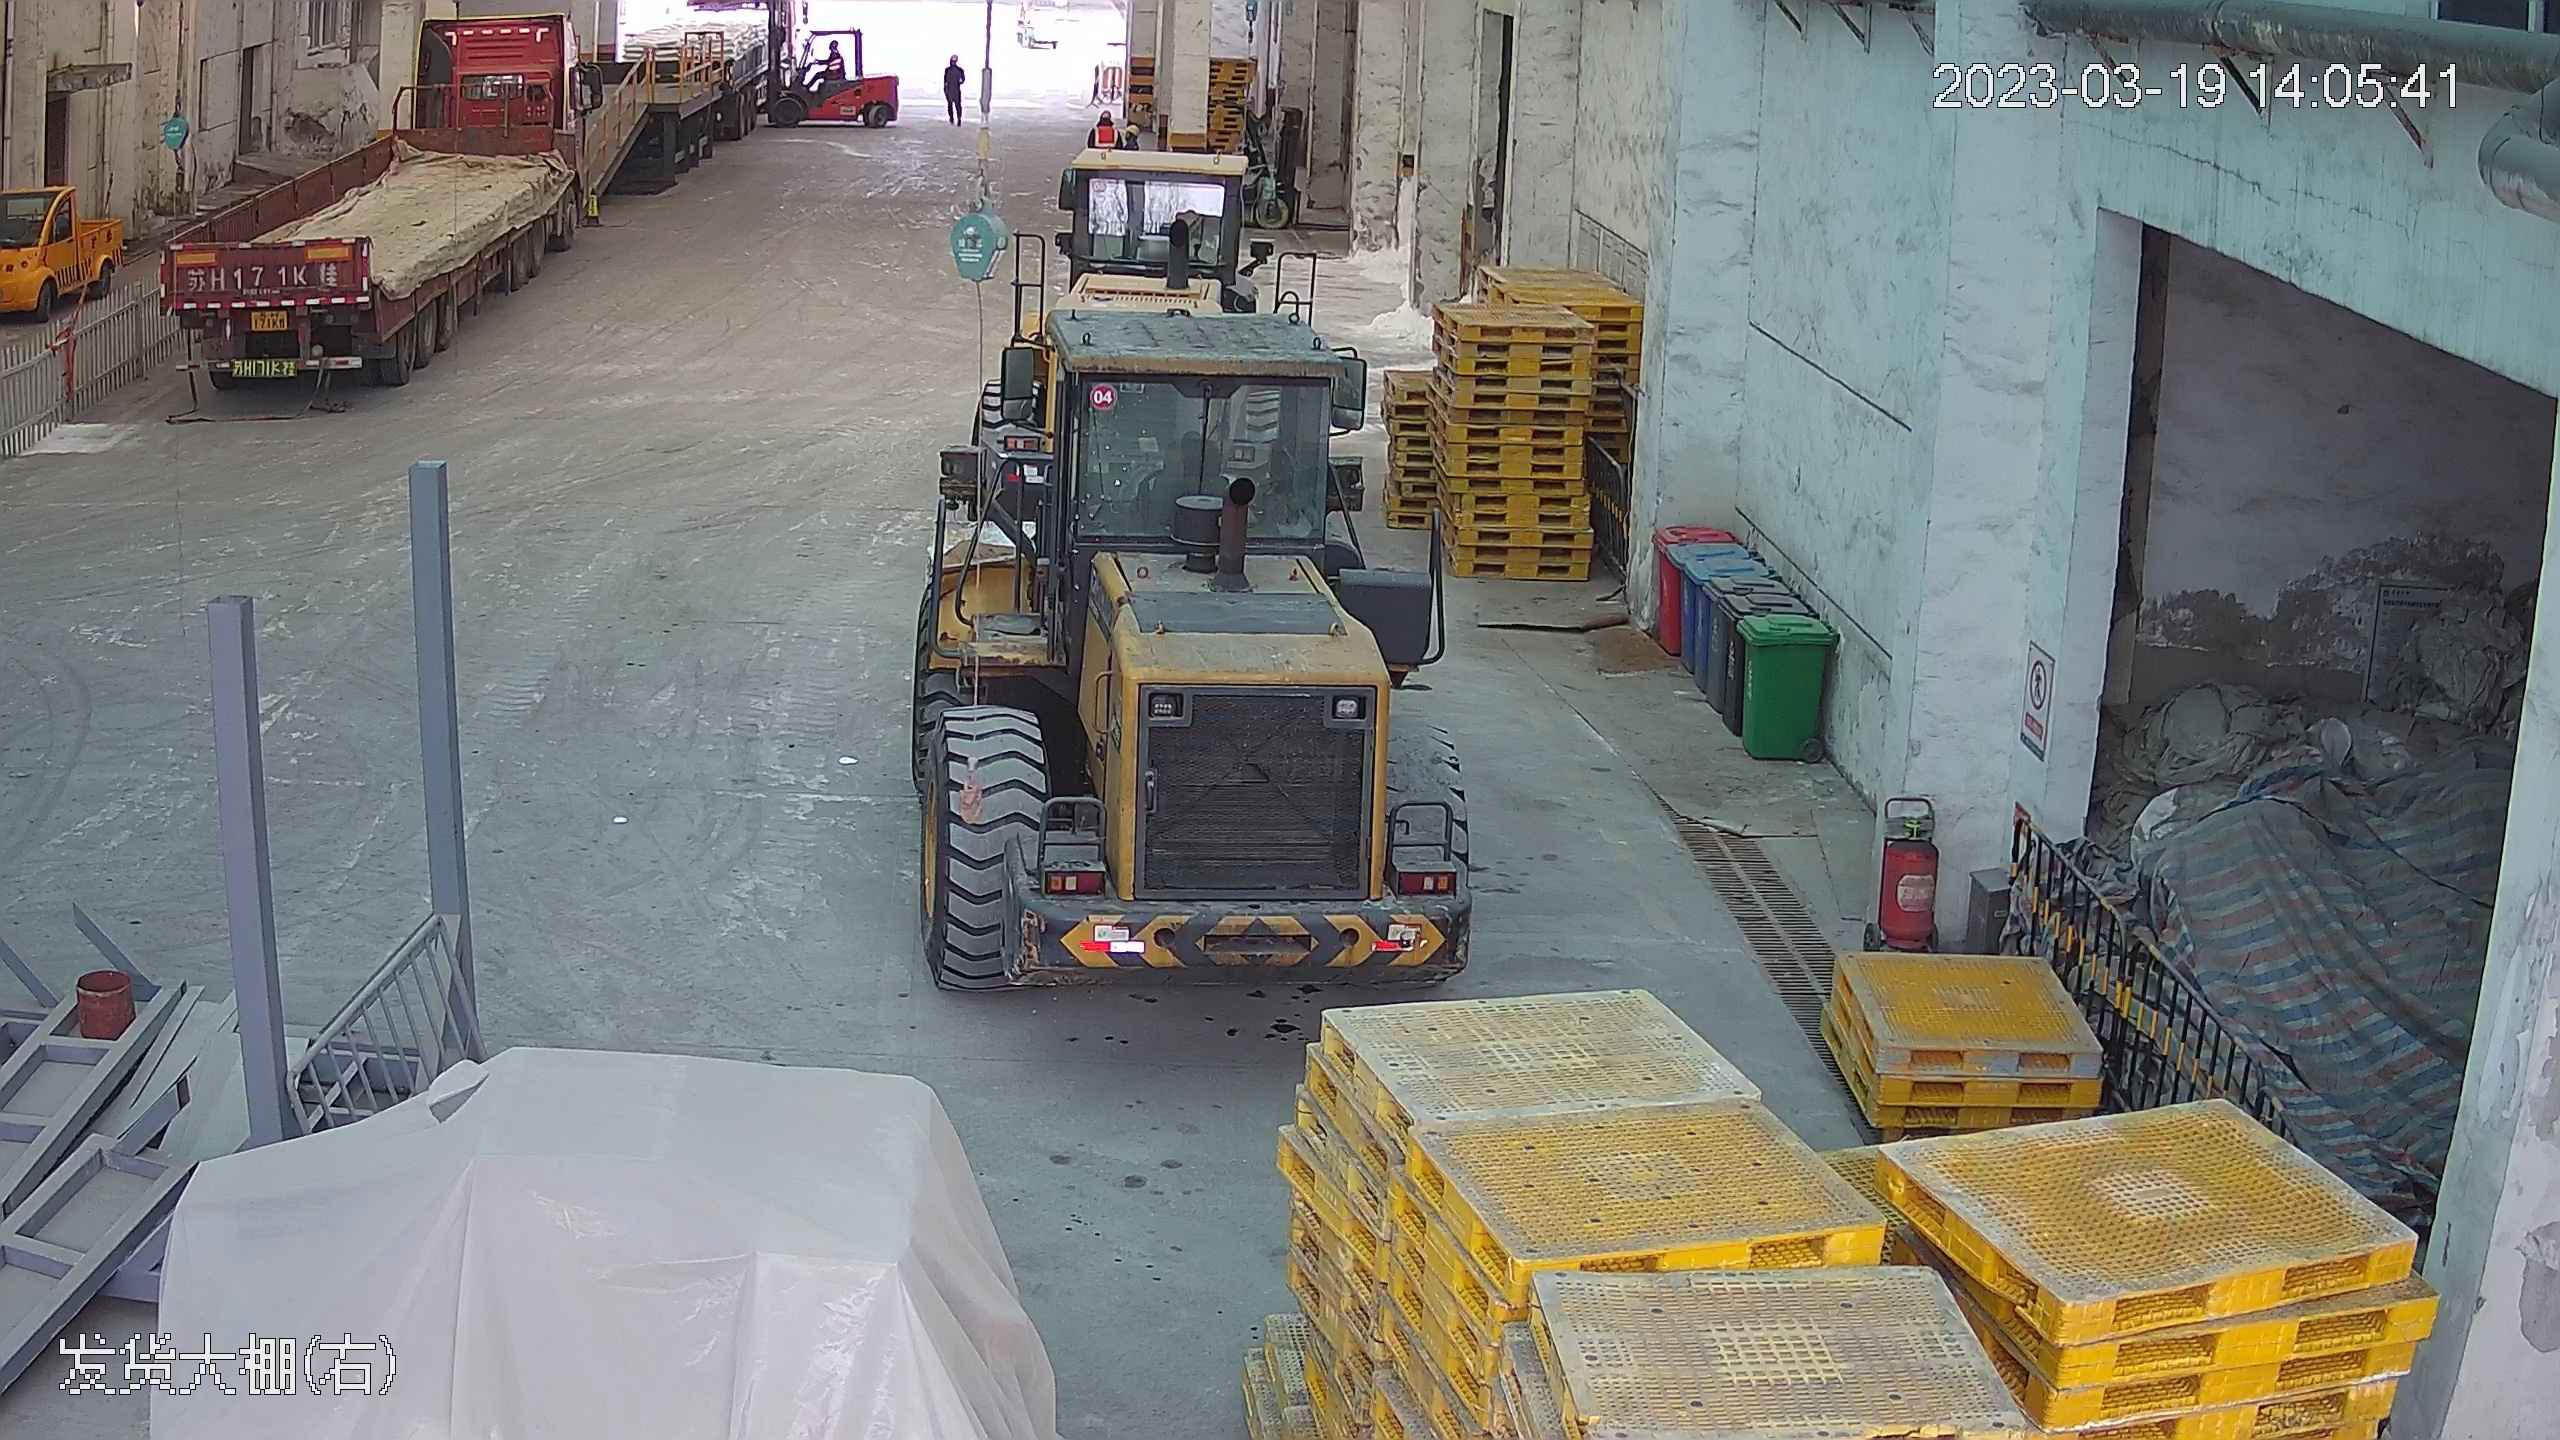head: (806, 40, 846, 88), (1092, 106, 1118, 138), (942, 52, 964, 78), (824, 38, 843, 59)
helmet: (1124, 125, 1140, 137), (829, 41, 838, 47), (1100, 110, 1110, 118), (950, 54, 959, 62)
people: (941, 48, 965, 119)
truck: (156, 6, 609, 388)
